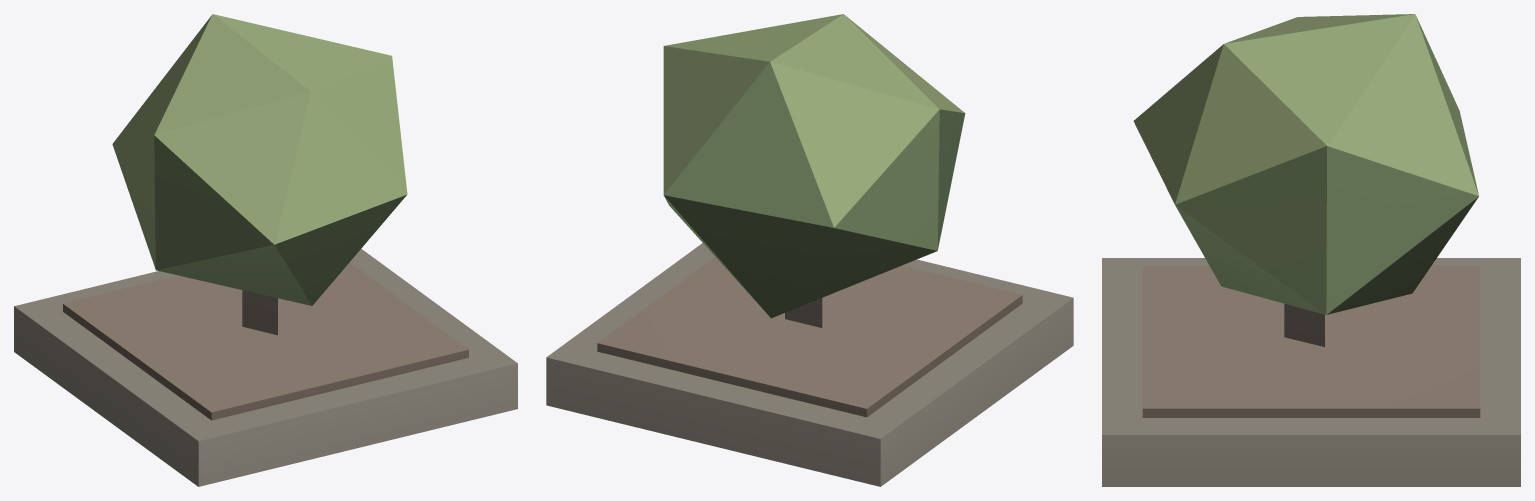
Rendered from shrub.lod2.glb.
The picture shows the model from 3 angles, left to right: view 1: azimuth 30°, elevation 25°; view 2: azimuth 150°, elevation 25°; view 3: azimuth 270°, elevation 25°; orthographic projection. The views are drawn at different scales.
Size of the model in its own units: 1.24 by 1.24 by 1.24.
